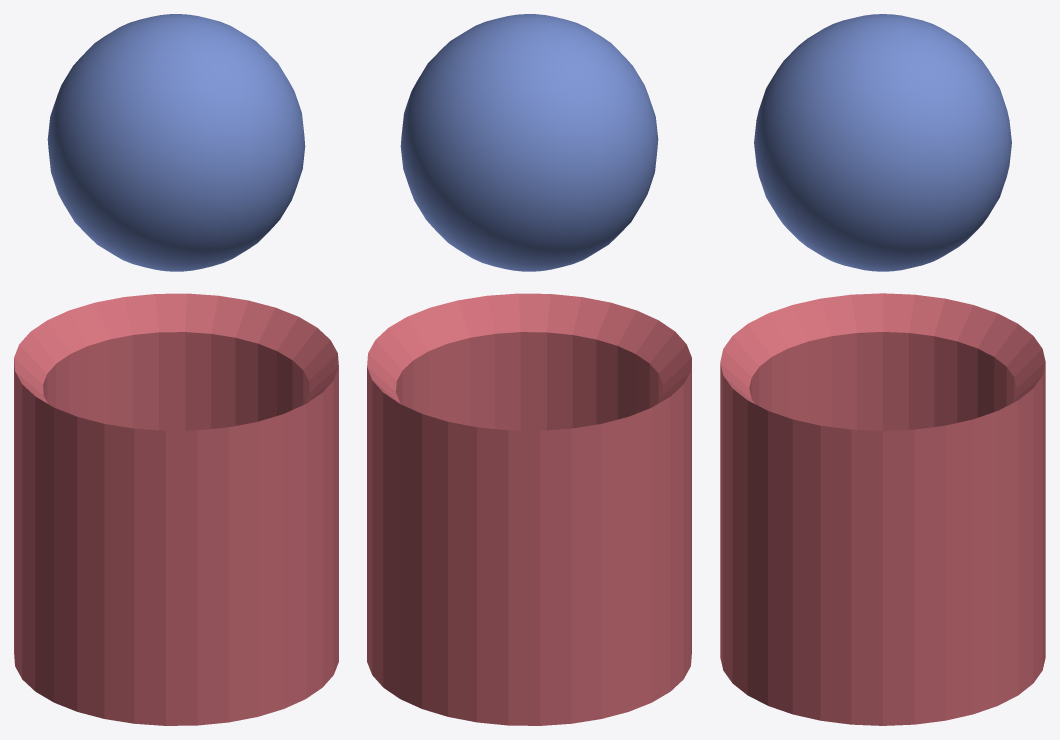
Rendered from animation.dae.
3 views of the same model, side by side, from view 1: azimuth 30°, elevation 25°; view 2: azimuth 150°, elevation 25°; view 3: azimuth 270°, elevation 25° (orthographic).
Visible parts, largest first — view 1: Cylinder, Sphere; view 2: Cylinder, Sphere; view 3: Cylinder, Sphere.
Part boxes in pixels (bbox=[...]): Cylinder: bbox=[14, 293, 338, 725]; Sphere: bbox=[47, 14, 305, 271]; Cylinder: bbox=[367, 293, 691, 725]; Sphere: bbox=[400, 14, 658, 271]; Cylinder: bbox=[720, 293, 1045, 725]; Sphere: bbox=[754, 14, 1011, 271].
Size of the model in its own units: 2.52 by 2.52 by 5.4.
